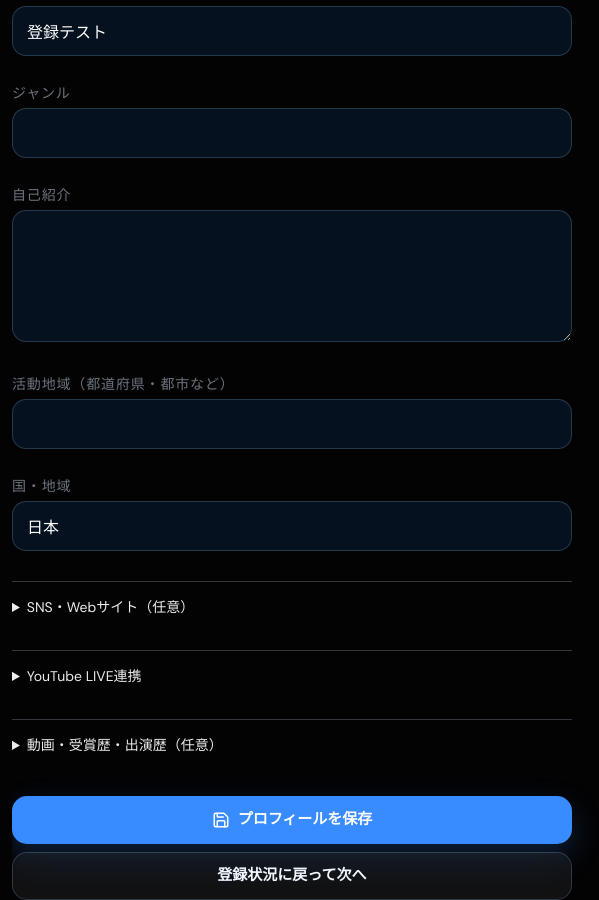
Scenario: smartphone performer registration › does not report success when profile persistence fails
The image size is (599, 900).
(page scrolled)
Click the button "プロフィールを保存": (292, 820) 12,796 -> 572,844
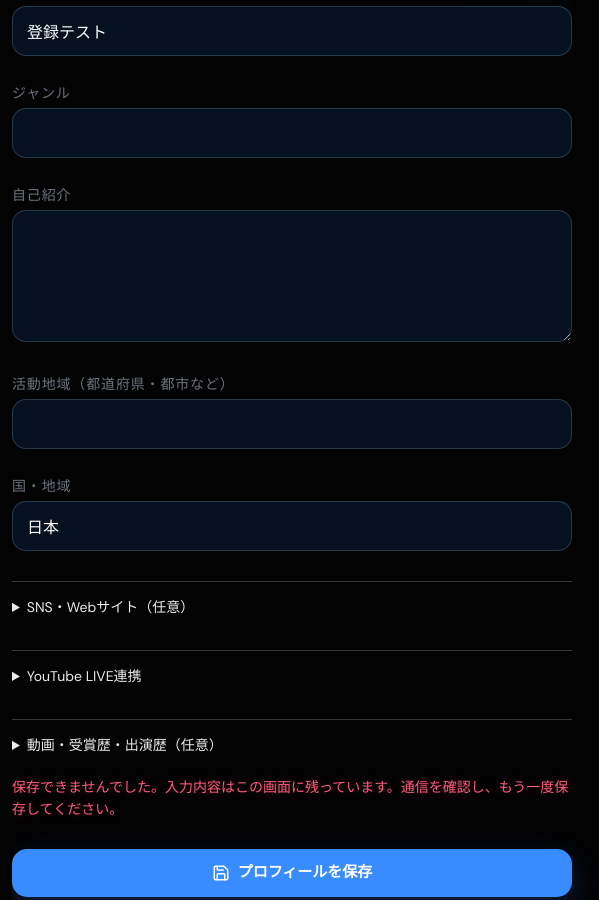
expect the message shows "保存できませんでした": met, box 12,778 -> 568,818
